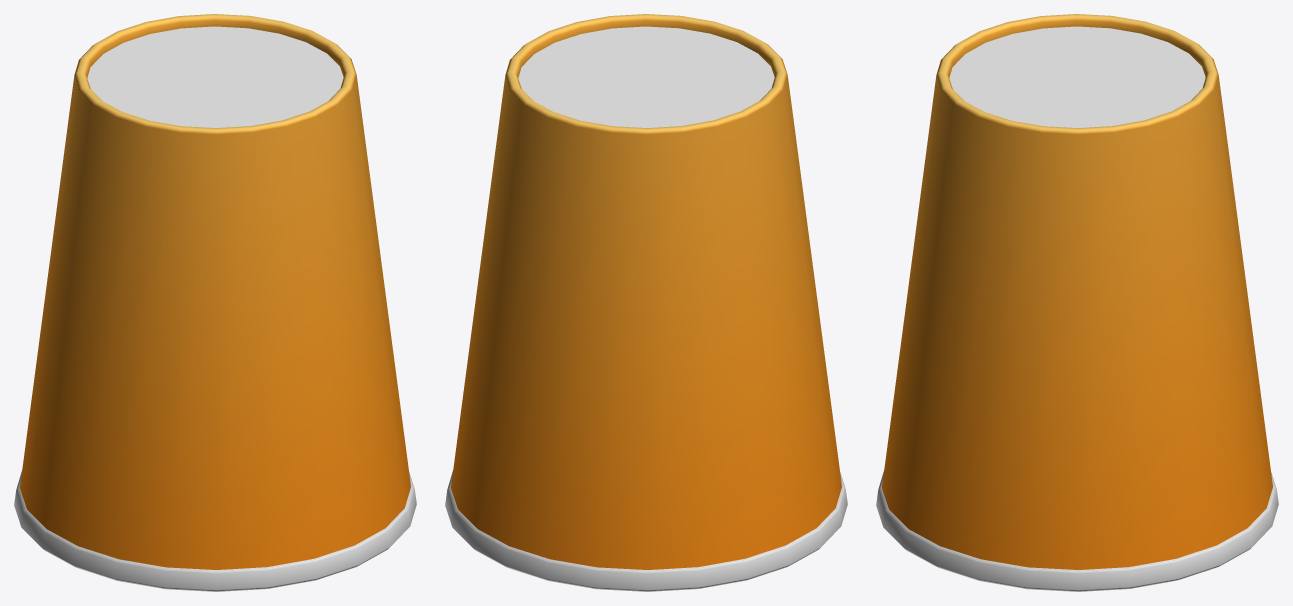
The model's file is Paper_Glass_02.glb.
The picture shows the model from 3 angles, left to right: view 1: azimuth 30°, elevation 25°; view 2: azimuth 150°, elevation 25°; view 3: azimuth 270°, elevation 25°; orthographic projection.
Parts seen in each view (by area): view 1: Paper_Glass_02; view 2: Paper_Glass_02; view 3: Paper_Glass_02.
Part boxes in pixels (x1,y1,x2,y2): Paper_Glass_02: (14,14,416,591); Paper_Glass_02: (445,14,847,591); Paper_Glass_02: (876,14,1278,591).
Bounding box in the file's own units: 0.1009 × 0.1207 × 0.1009.
1 material, 1 textured.
